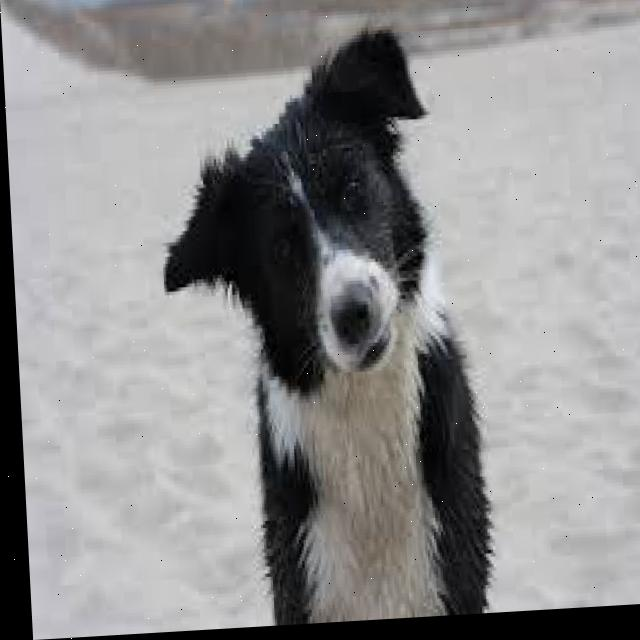BORDER_COLLIE: (147, 5, 502, 633)
